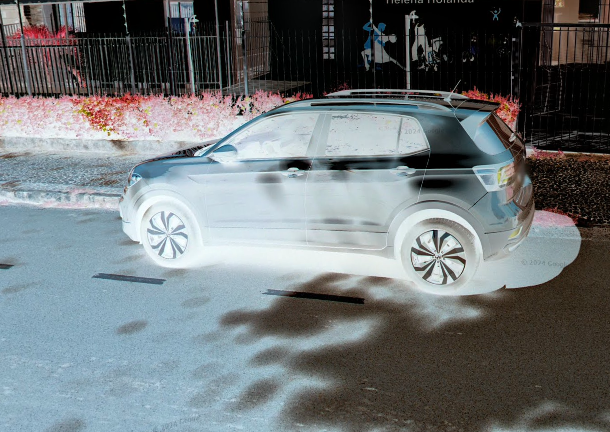car: (115, 75, 537, 292)
